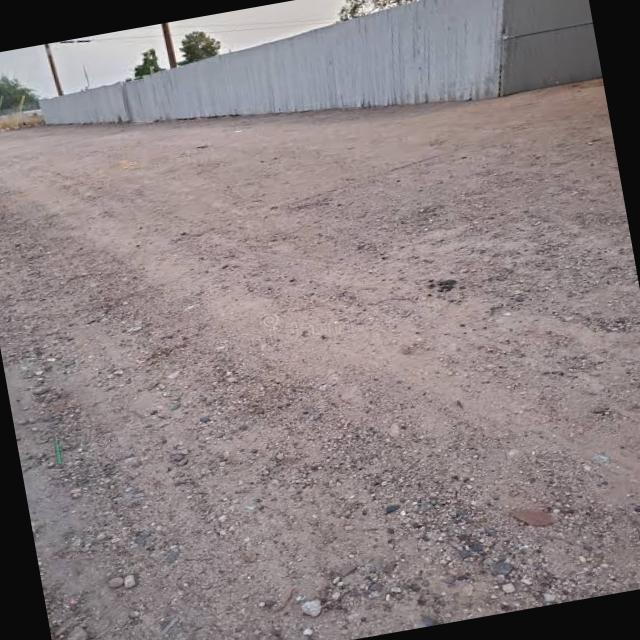suelo_compacto: (26, 126, 567, 640)
